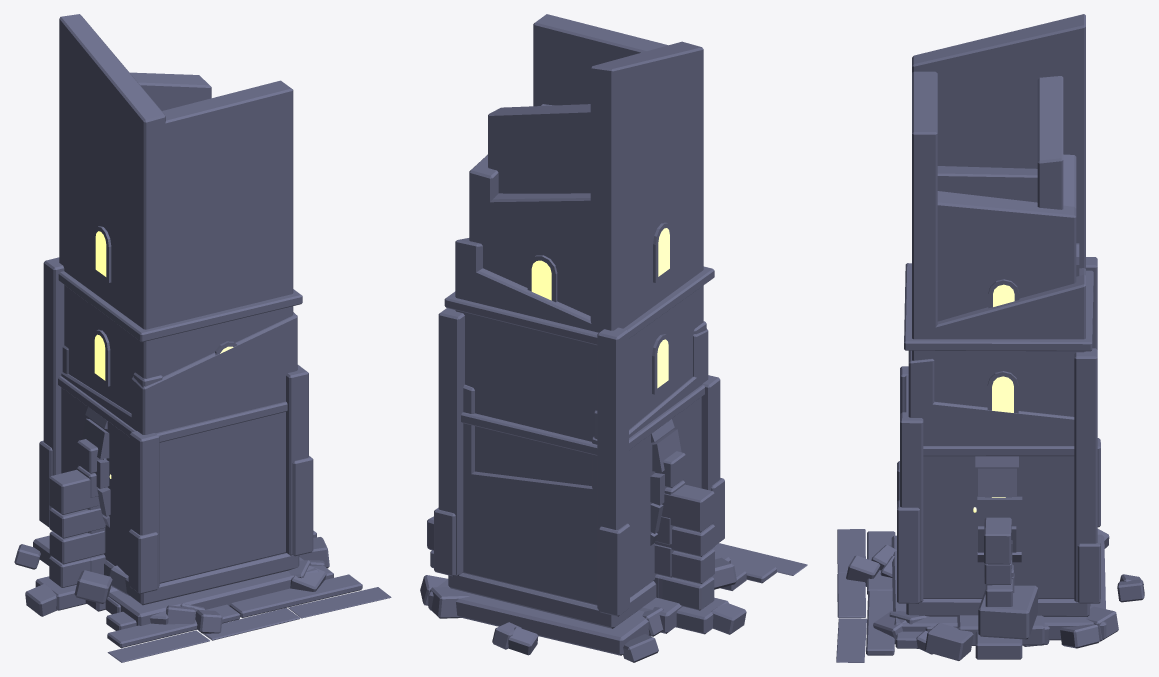
The model's file is kit.glb.
3 views of the same model, side by side, from view 1: azimuth 30°, elevation 25°; view 2: azimuth 150°, elevation 25°; view 3: azimuth 270°, elevation 25° (orthographic). The views are drawn at different scales.
Visible parts, largest first — view 1: tower_a, tower_c, portal_steps, wall_a, portal_arch, tower_d, tower_b, wall_b; view 2: tower_a, tower_c, tower_b, tower_d, wall_a, portal_arch, portal_steps, wall_b; view 3: tower_a, tower_c, tower_b, tower_d, portal_arch, portal_steps, wall_a.
Part boxes in pixels (box(x1,y1,x2,y2)): tower_a: box(14, 14, 326, 624); tower_c: box(25, 312, 318, 633); portal_steps: box(105, 565, 391, 662); wall_a: box(35, 469, 316, 610); portal_arch: box(74, 407, 129, 611); tower_d: box(130, 72, 211, 613); tower_b: box(62, 345, 329, 603); wall_b: box(77, 439, 106, 574); tower_a: box(430, 14, 721, 662); tower_c: box(420, 328, 746, 655); tower_b: box(469, 104, 706, 649); tower_d: box(488, 104, 663, 636); wall_a: box(430, 484, 728, 634); portal_arch: box(427, 419, 736, 633); portal_steps: box(712, 543, 807, 590); wall_b: box(654, 451, 685, 598); tower_a: box(871, 14, 1118, 644); tower_c: box(846, 350, 1143, 648); tower_b: box(889, 154, 1144, 660); tower_d: box(880, 76, 1063, 646); portal_arch: box(957, 456, 1044, 645); portal_steps: box(836, 529, 933, 662); wall_a: box(975, 517, 1022, 659).
Size of the model in its own units: 5.12 by 9.85 by 4.79.
